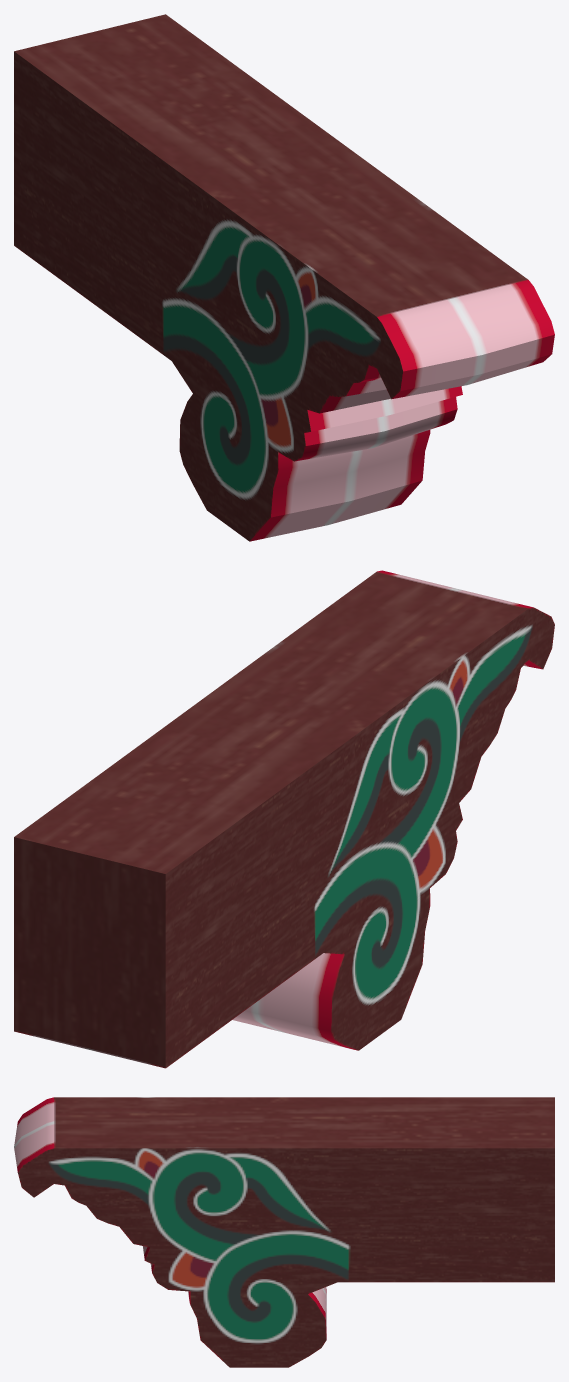
The model's file is SM_Gongpo03c.fbx.
3 renders of one model, top to bottom at view 1: azimuth 30°, elevation 25°; view 2: azimuth 150°, elevation 25°; view 3: azimuth 270°, elevation 25°, orthographic. The views are drawn at different scales.
Visible parts, largest first — view 1: SM_Gongpo03c; view 2: SM_Gongpo03c; view 3: SM_Gongpo03c.
Boxes of the visible parts, left/top/right/bottom form: SM_Gongpo03c: left=14, top=14, right=554, bottom=541; SM_Gongpo03c: left=14, top=570, right=554, bottom=1068; SM_Gongpo03c: left=14, top=1097, right=554, bottom=1367.
Bounding box in the file's own units: 10 × 44.73 × 20.02.
1 material, 1 textured.
